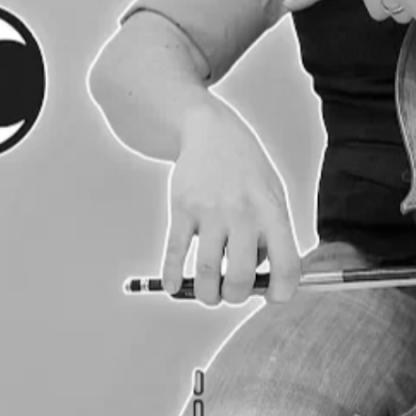good: (152, 152, 305, 308)
